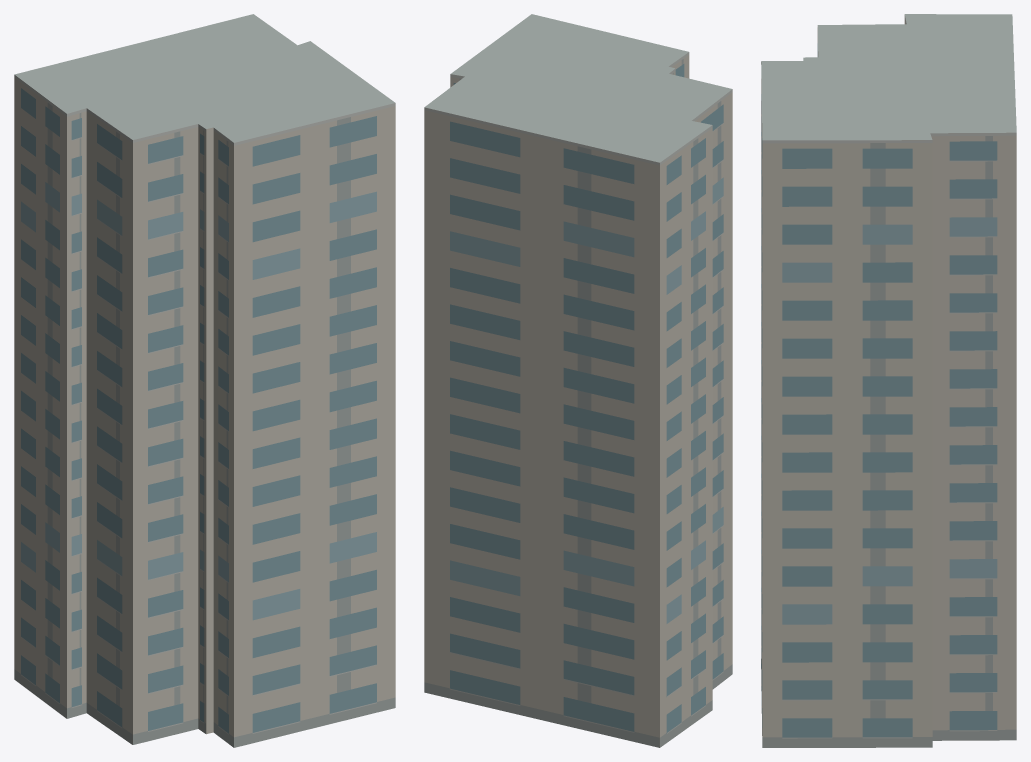
The model's file is residential-df0673f1-8773-4e57-ac52-dbbf83b8ad3f.glb.
The picture shows the model from 3 angles, left to right: view 1: azimuth 30°, elevation 25°; view 2: azimuth 150°, elevation 25°; view 3: azimuth 270°, elevation 25°; orthographic projection. The views are drawn at different scales.
Visible parts, largest first — view 1: residential-df0673f1-8773-4e57-ac52-dbbf83b8ad3f.tmp; view 2: residential-df0673f1-8773-4e57-ac52-dbbf83b8ad3f.tmp; view 3: residential-df0673f1-8773-4e57-ac52-dbbf83b8ad3f.tmp.
Part boxes in pixels (x1,y1,x2,y2): residential-df0673f1-8773-4e57-ac52-dbbf83b8ad3f.tmp: (14,14,395,747); residential-df0673f1-8773-4e57-ac52-dbbf83b8ad3f.tmp: (424,14,732,747); residential-df0673f1-8773-4e57-ac52-dbbf83b8ad3f.tmp: (761,14,1016,747).
Size of the model in its own units: 22.31 by 50 by 19.07.
